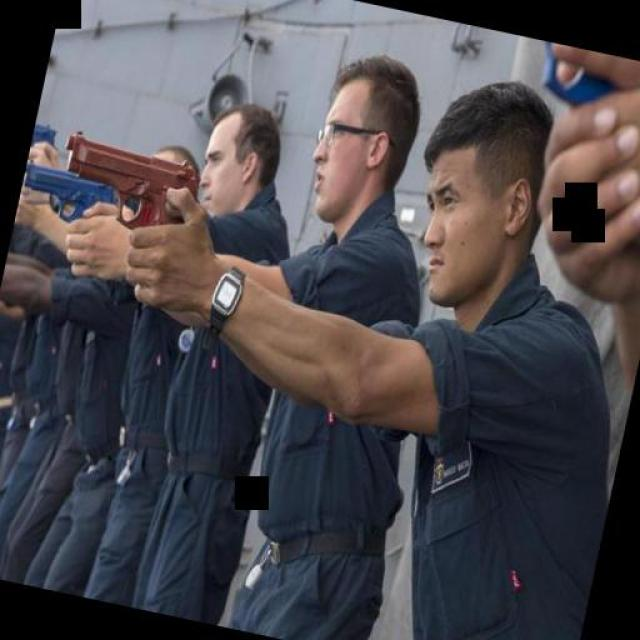gun: (51, 122, 205, 238), (16, 151, 119, 231)
